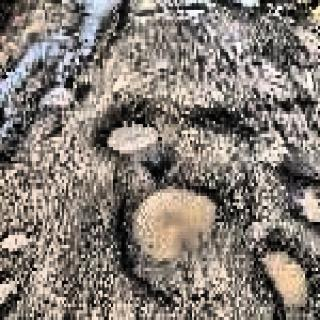pothole: (118, 174, 230, 269), (255, 233, 320, 320), (99, 110, 163, 163), (279, 157, 320, 222)
